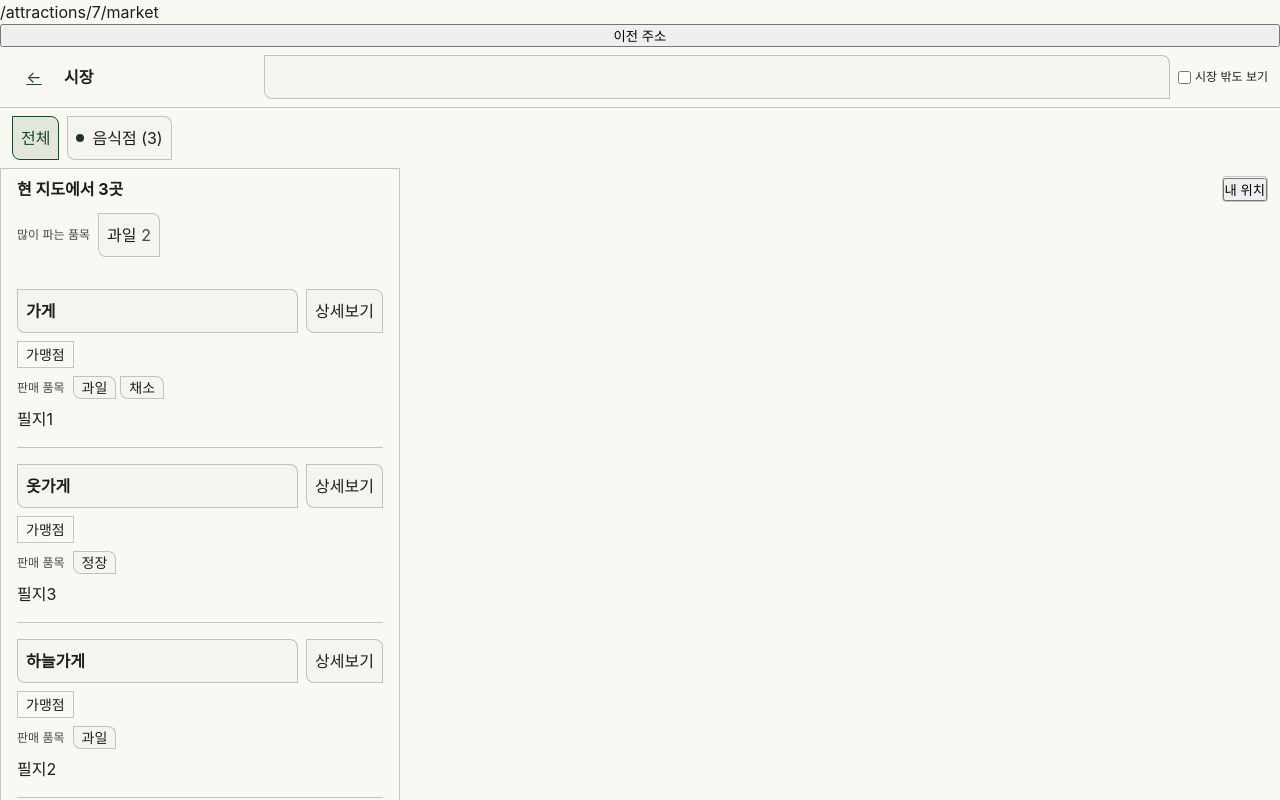
Test case: dedicated market map page › shows each shop's goods and puts a popular good into the search when picked
Expected: the buttons read "과일 2", in this order, [98,213,160,257]
Expected: the text "판매 품목" is shown 3 times, [17,378,64,396]; [17,554,64,572]; [17,728,64,746]
Type "옷" into the search field. click: (717, 77)
box: [264,55,1170,99]
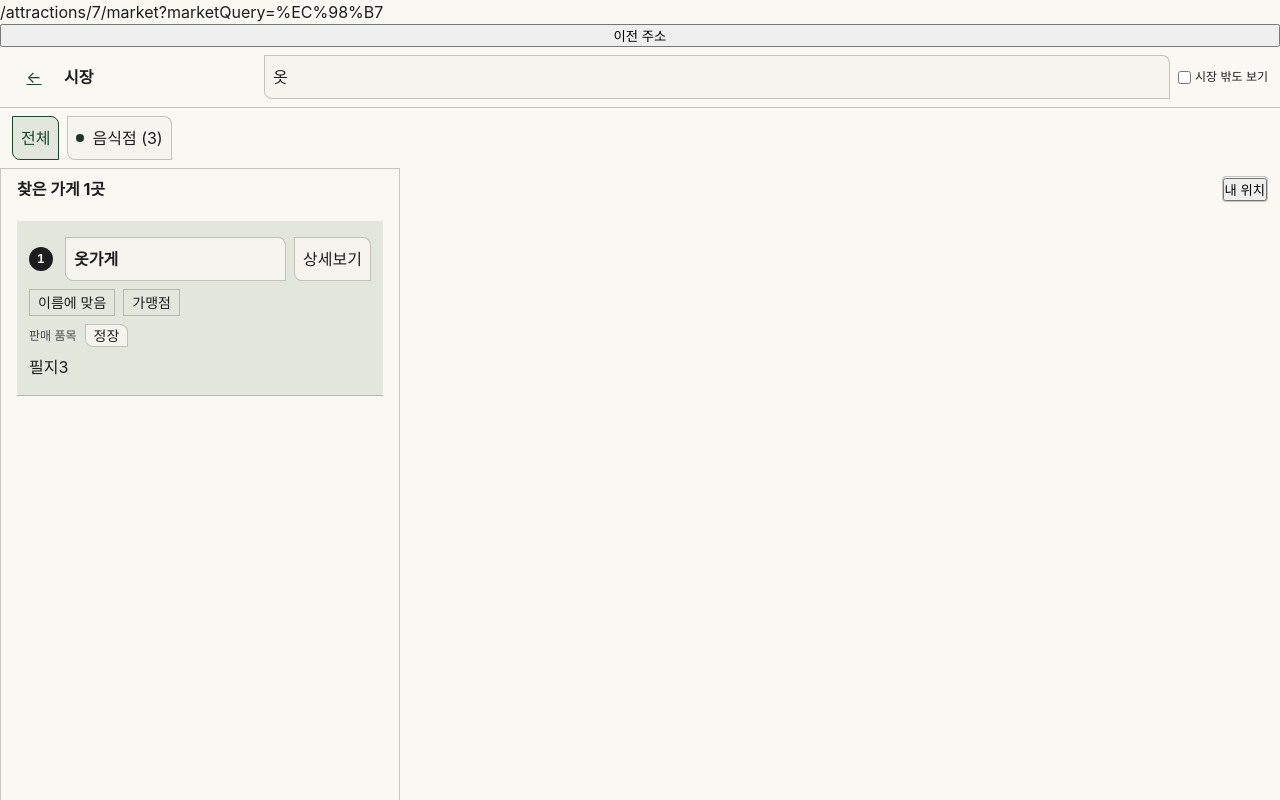
Clear the search field. click: (717, 77)
box: [264,55,1170,99]
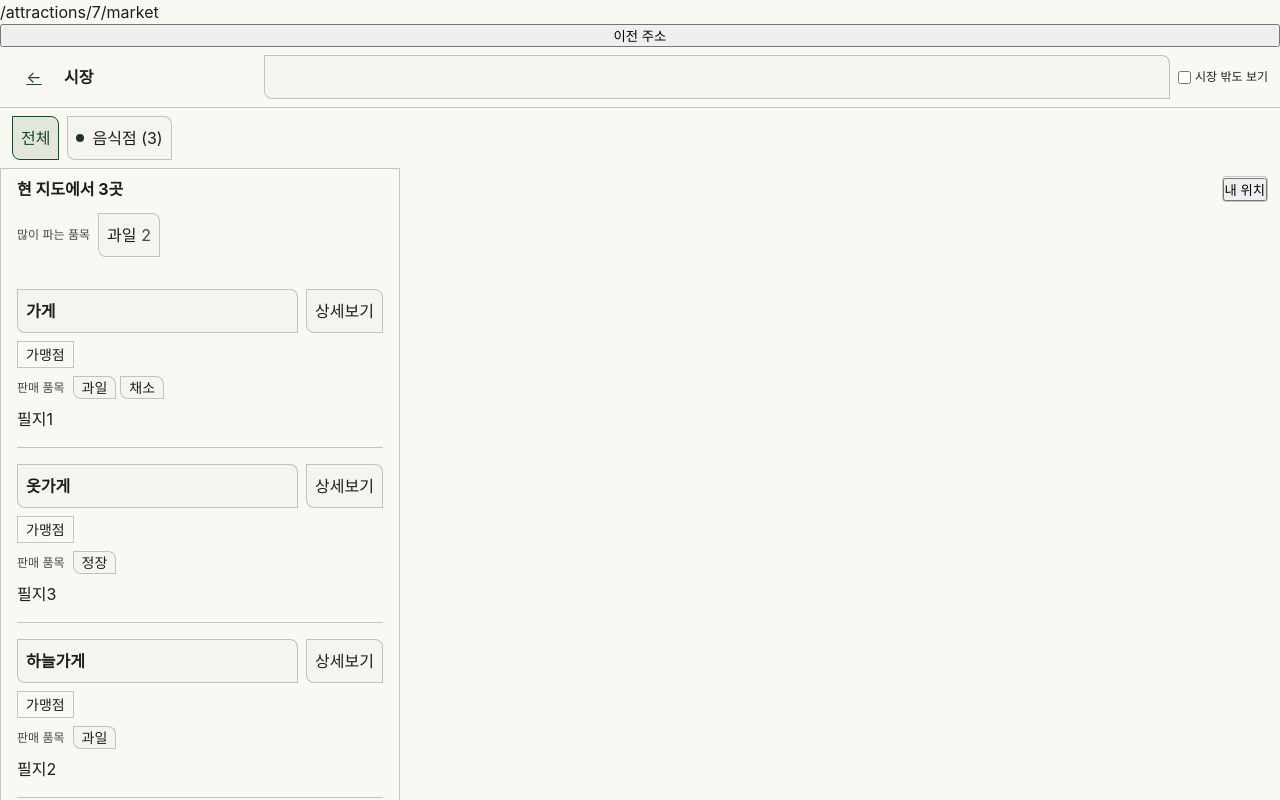
Click the button "과일 2". click: click(129, 235)
box: [98,213,160,257]
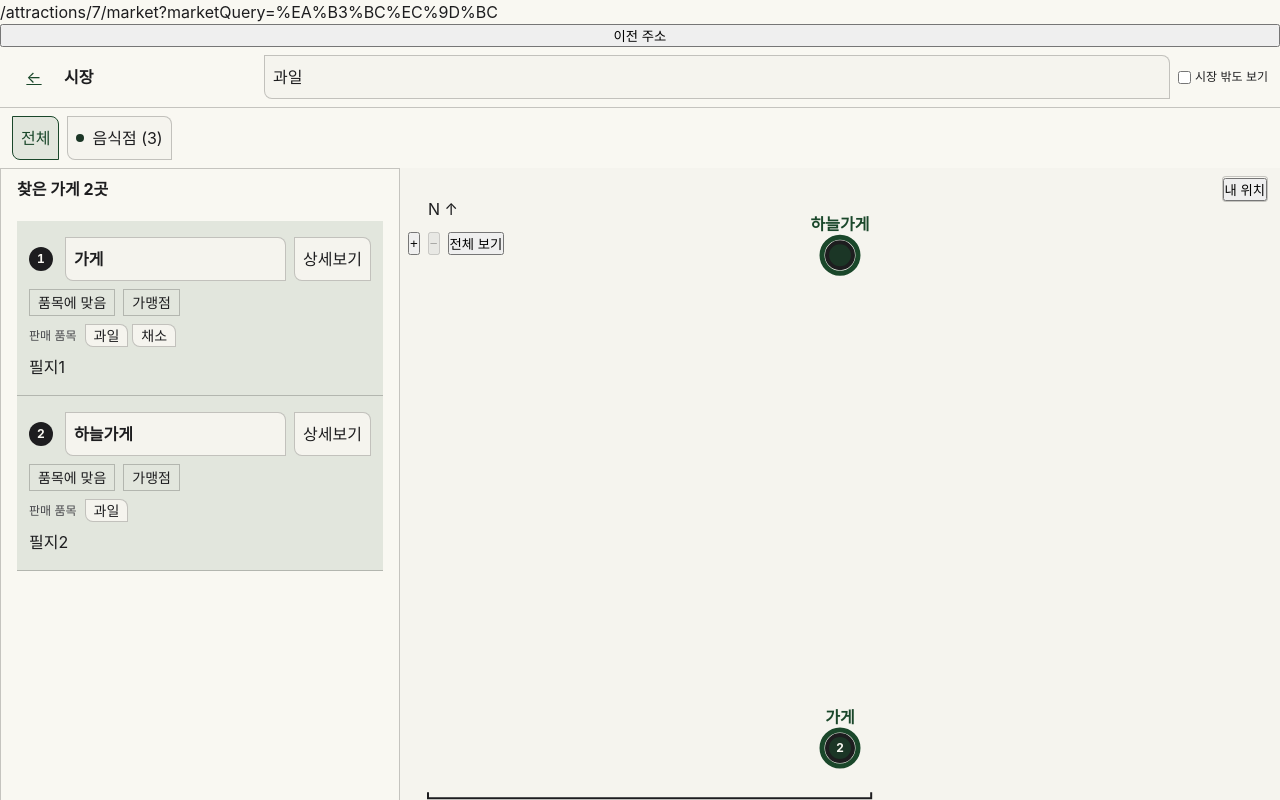
Now the search field holds "과일", box [264,55,1170,99]
Now the text with test id "address" shows "marketQuery=%EA%B3%BC%EC%9D%BC", box [159,2,498,22]
Now the heading "찾은 가게 2곳" is shown, box [17,179,108,199]
